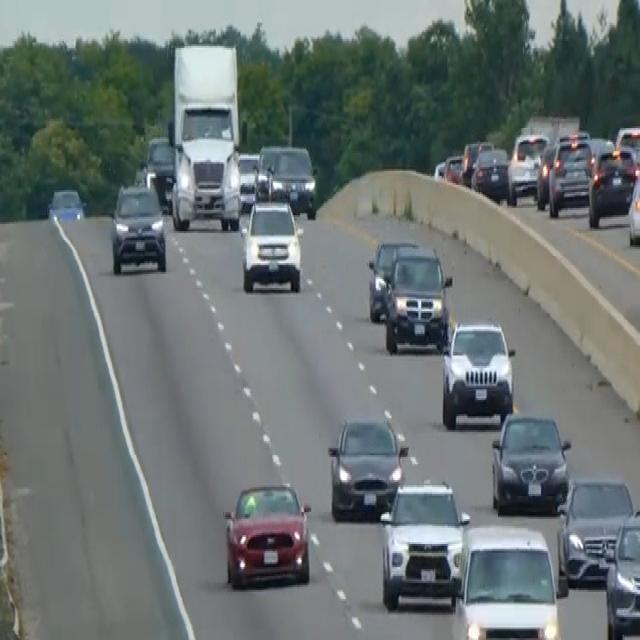car: (450, 521, 563, 638), (379, 478, 469, 610), (222, 478, 312, 588), (556, 473, 634, 587), (326, 413, 408, 519), (490, 409, 571, 514), (440, 316, 515, 428), (383, 244, 451, 354), (240, 198, 303, 294), (109, 180, 167, 274), (604, 507, 639, 638), (257, 142, 317, 217), (366, 235, 417, 322), (587, 144, 637, 228), (547, 133, 594, 215), (507, 130, 548, 202), (470, 144, 510, 201), (142, 133, 174, 204), (535, 139, 558, 208), (461, 137, 493, 185), (46, 185, 86, 222), (236, 149, 260, 210), (614, 123, 639, 167), (627, 164, 639, 247), (442, 151, 464, 185)
lorry: (168, 41, 242, 229)
